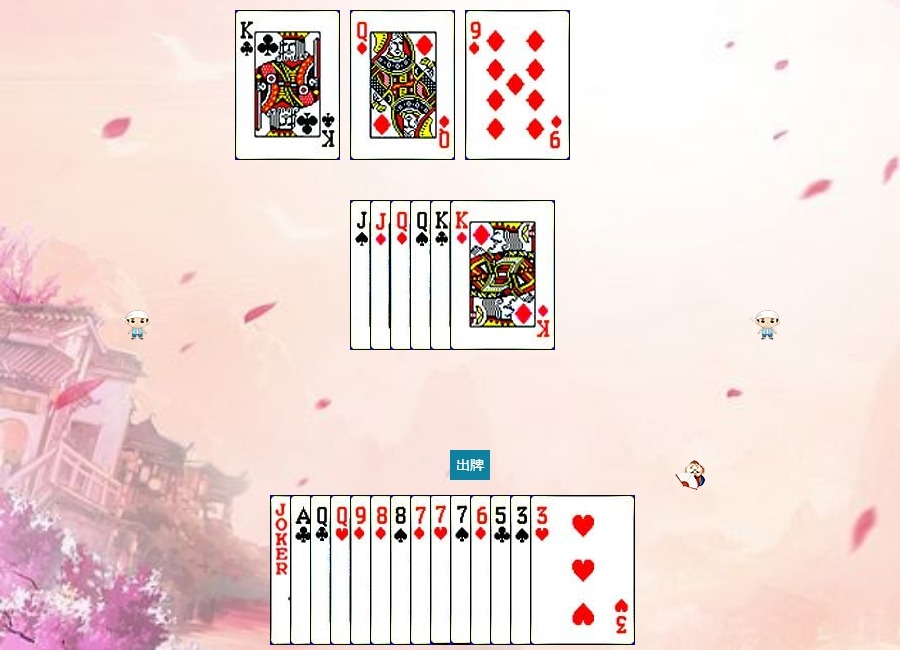11~1: (370, 200, 475, 350)
11~4: (350, 200, 455, 350)
12~1: (350, 10, 455, 160), (390, 200, 495, 350)
12~2: (310, 495, 415, 645)
12~3: (330, 495, 435, 645)
12~4: (410, 200, 515, 350)
13~1: (450, 200, 555, 350)
13~2: (235, 10, 340, 160), (430, 200, 535, 350)
14~2: (290, 495, 395, 645)
18~4: (270, 495, 375, 645)
3~3: (530, 495, 635, 645)
3~4: (510, 495, 615, 645)
5~2: (490, 495, 595, 645)
6~1: (470, 495, 575, 645)
7~1: (410, 495, 515, 645)
7~3: (430, 495, 535, 645)
7~4: (450, 495, 555, 645)
8~1: (370, 495, 475, 645)
8~4: (390, 495, 495, 645)
9~1: (465, 10, 570, 160), (350, 495, 455, 645)
